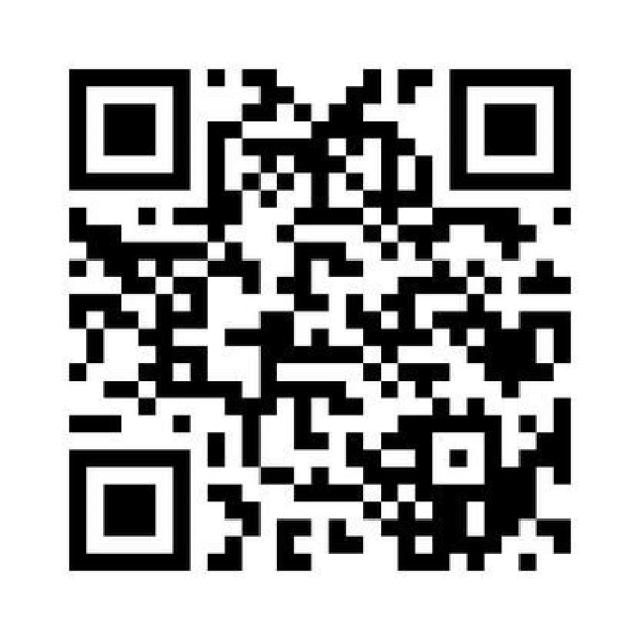QRCode: (62, 61, 584, 577)
